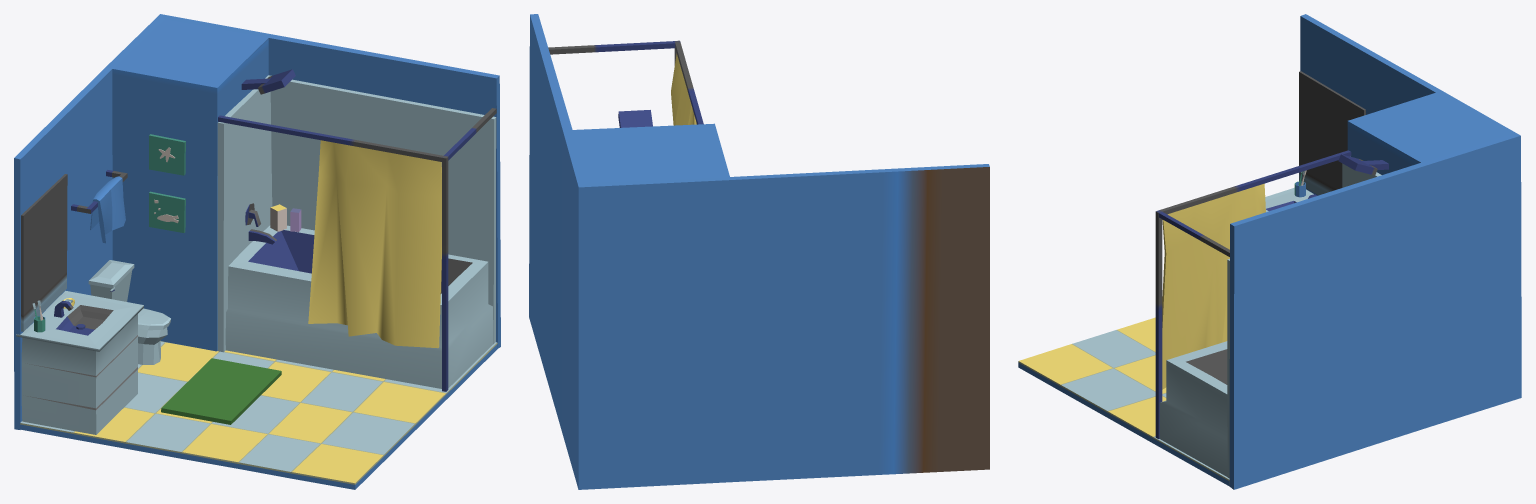
Rendered from Bathroom.fbx.
3 renders of one model, left to right at view 1: azimuth 30°, elevation 25°; view 2: azimuth 150°, elevation 25°; view 3: azimuth 270°, elevation 25°, orthographic. The views are drawn at different scales.
Visible parts, largest first — view 1: Bathroom_Walls, Bathroom_Floor, Bathroom_Wall, Bathroom_Curtain, Bathroom_Bath, Bathroom_Washstand, Bathroom, Bathroom_Mirror, Bathroom_Rug, Bathroom_Toilet, Bathroom_Towel, Bathroom_Picture (+1 smaller); view 2: Bathroom_Walls, Bathroom, Bathroom_Curtain, Bathroom_Shower; view 3: Bathroom_Walls, Bathroom_Curtain, Bathroom_Floor, Bathroom_Bath, Bathroom_Mirror, Bathroom, Bathroom_Wall, Bathroom_Shower, Bathroom_Washstand.
Part boxes in pixels (x1,y1,x2,y2): Bathroom_Walls: (14,14,500,429); Bathroom_Floor: (19,341,497,489); Bathroom_Wall: (217,75,496,352); Bathroom_Curtain: (308,140,441,348); Bathroom_Bath: (225,225,493,388); Bathroom_Washstand: (16,290,143,434); Bathroom: (32,108,496,391); Bathroom_Mirror: (21,174,67,331); Bathroom_Rug: (161,358,281,424); Bathroom_Toilet: (88,260,170,364); Bathroom_Towel: (90,176,125,243); Bathroom_Picture: (149,191,185,232); Bathroom_Walls: (529,14,989,489); Bathroom: (548,40,703,124); Bathroom_Curtain: (671,53,696,125); Bathroom_Shower: (618,110,652,127); Bathroom_Walls: (1229,14,1521,489); Bathroom_Curtain: (1162,183,1265,389); Bathroom_Floor: (1018,317,1229,486); Bathroom_Bath: (1159,341,1227,476); Bathroom_Mirror: (1299,71,1365,195); Bathroom: (1155,150,1351,438); Bathroom_Wall: (1227,163,1381,484); Bathroom_Shower: (1338,154,1388,175); Bathroom_Washstand: (1265,187,1313,212).
Size of the model in its own units: 700 by 405 by 700.
